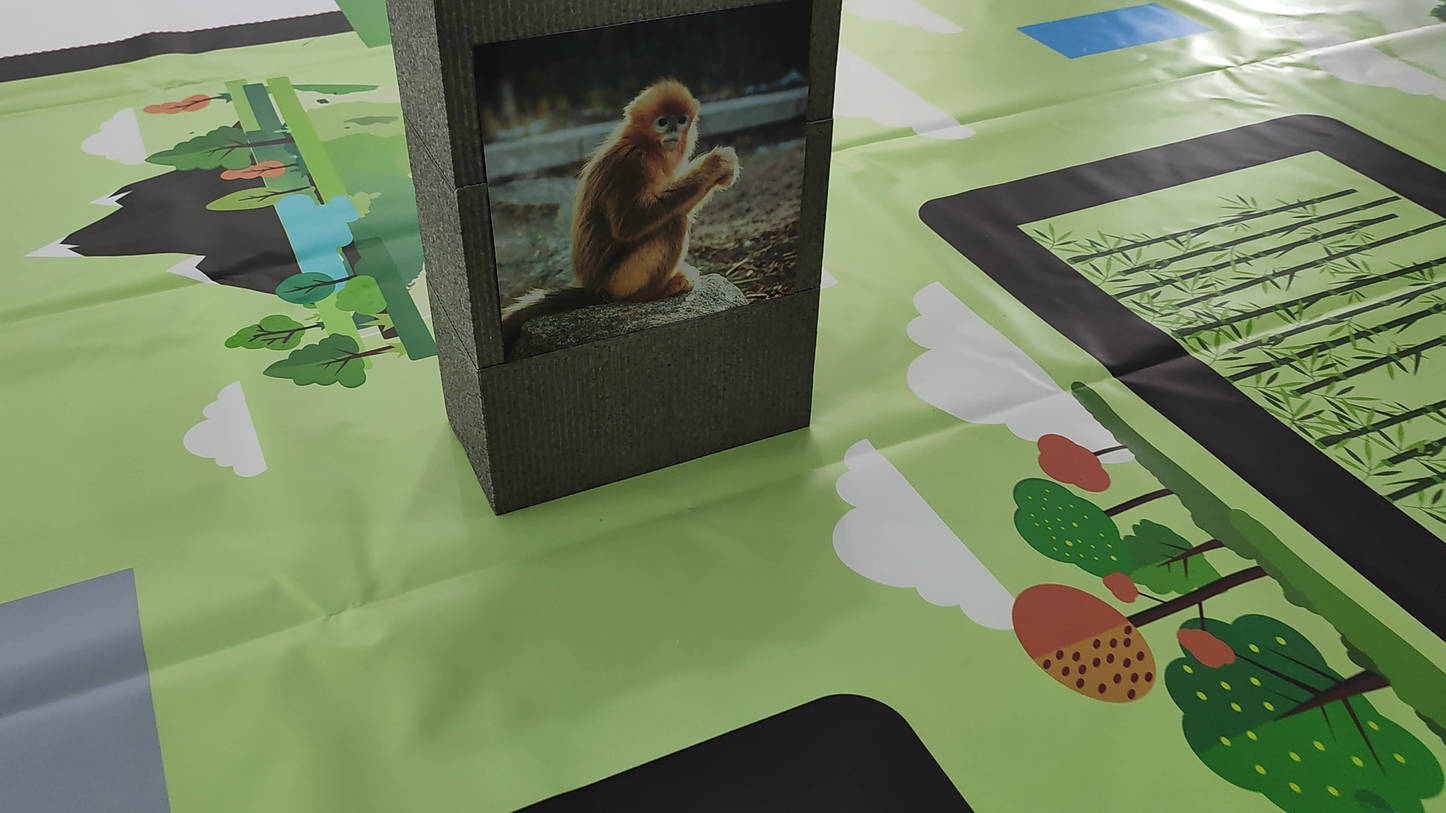monkey: (494, 53, 751, 345)
